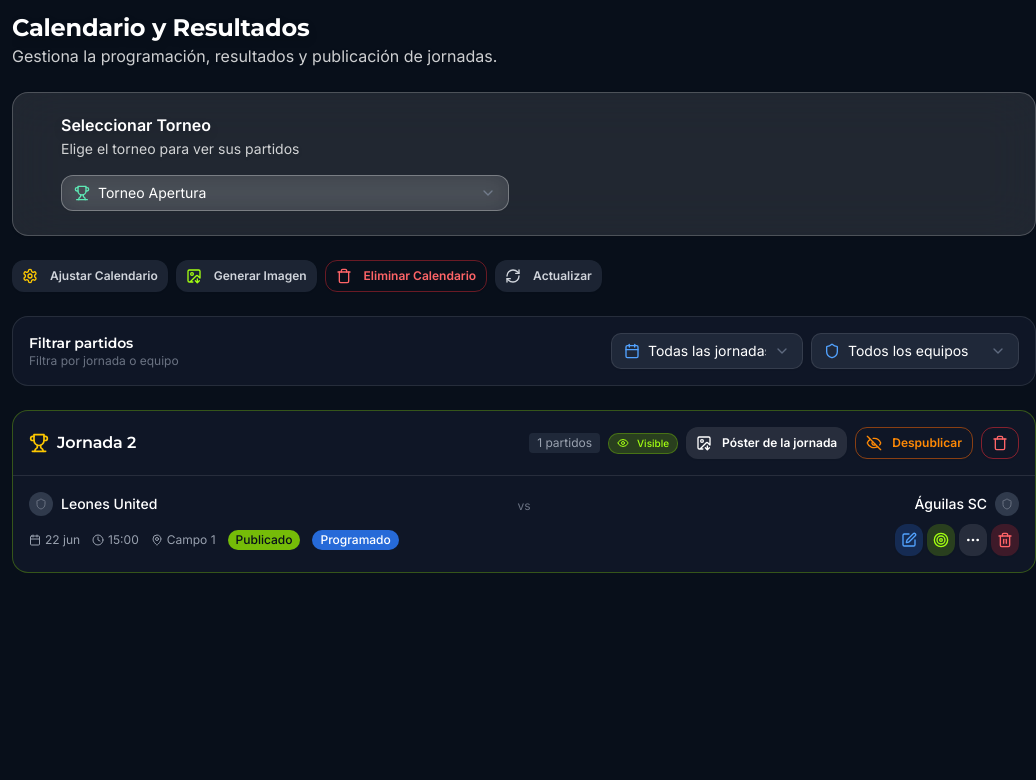
Test: round publishing › unpublishes a published round with is_published=false and skips the follow-ups
What coordinates should you click on to do the following:
click the button "Despublicar"
I would click on:
 (914, 443)
Its box is [855,427,973,459].
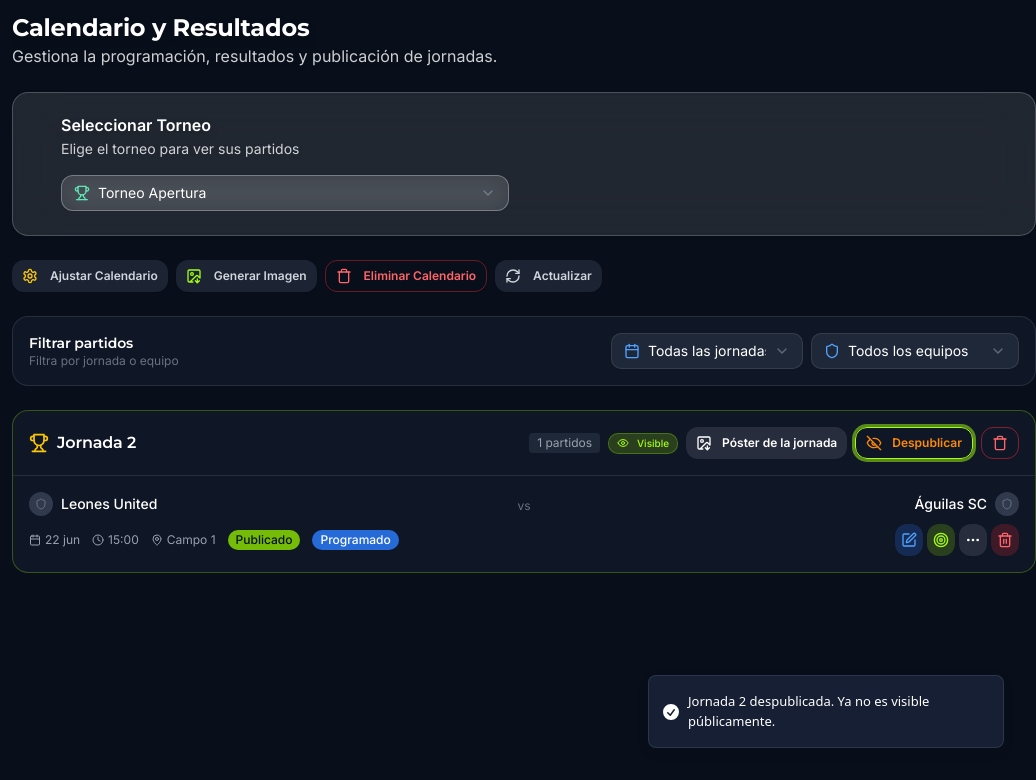
expect the text "Jornada 2 despublicada. Ya no es visible públicamente." is shown: met, box [688,692,929,730]
